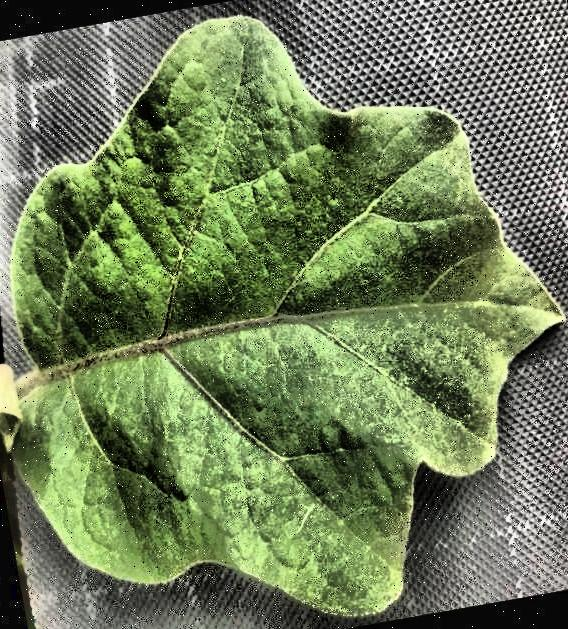HEALTHY: (0, 1, 568, 629)
